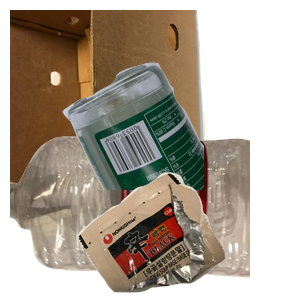cardboard: (10, 10, 211, 190)
glass: (60, 60, 300, 240)
plastic: (10, 134, 250, 300)
trash: (76, 170, 300, 300)
